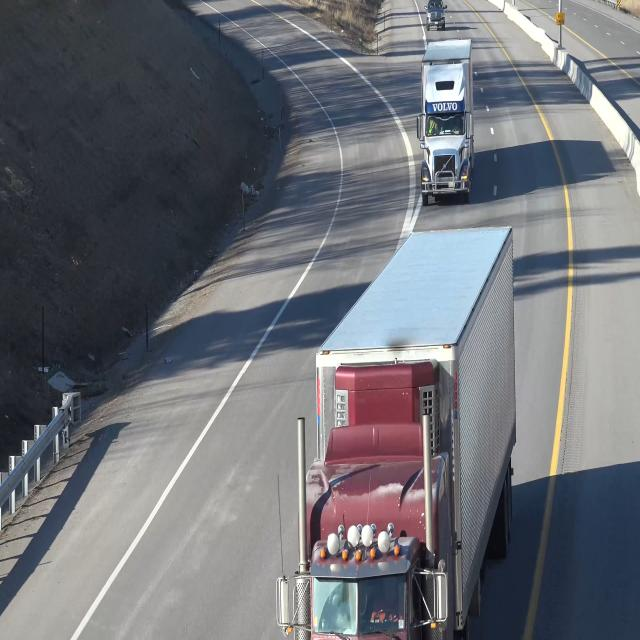Car: (275, 230, 521, 640), (419, 35, 477, 208), (424, 0, 448, 34)
